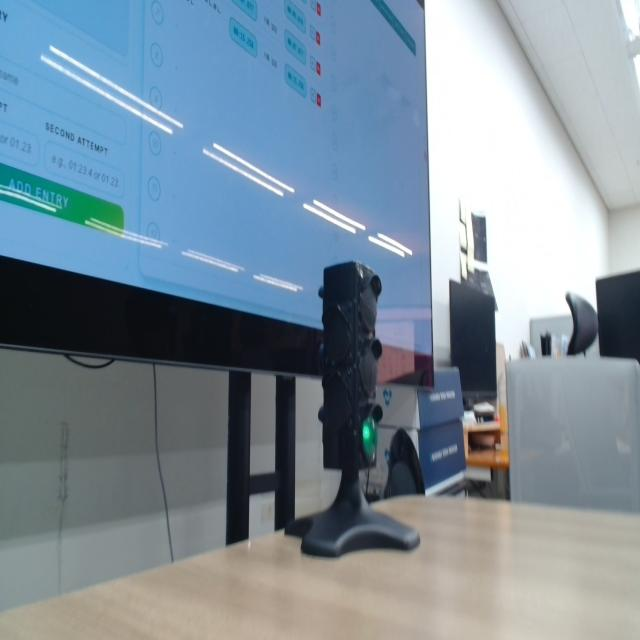green_light: (362, 417, 378, 462)
